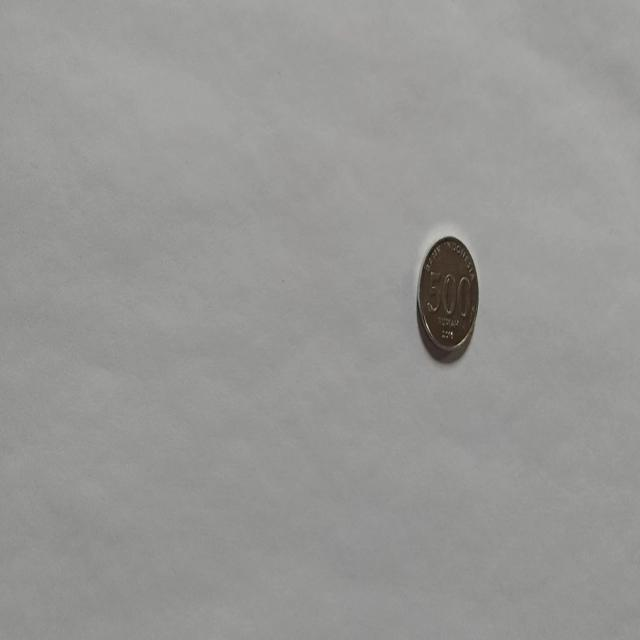lima ratus rupiah: (416, 234, 480, 362)
